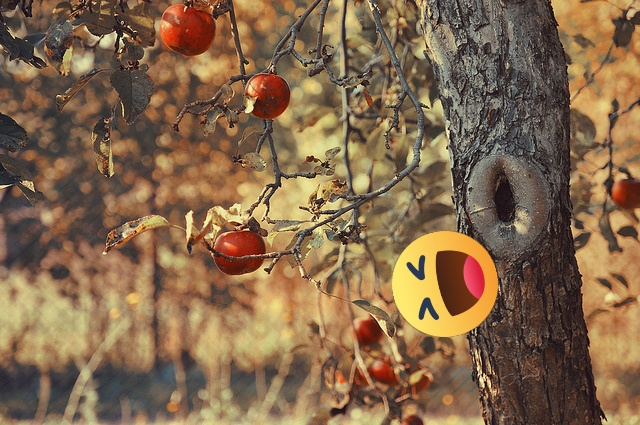haha: (392, 231, 498, 337)
